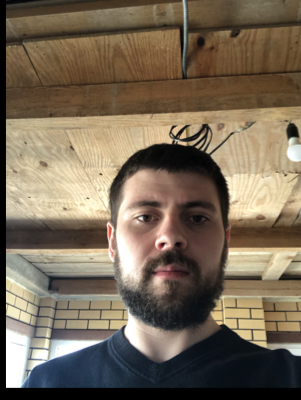without_mask: (120, 189, 223, 328)
